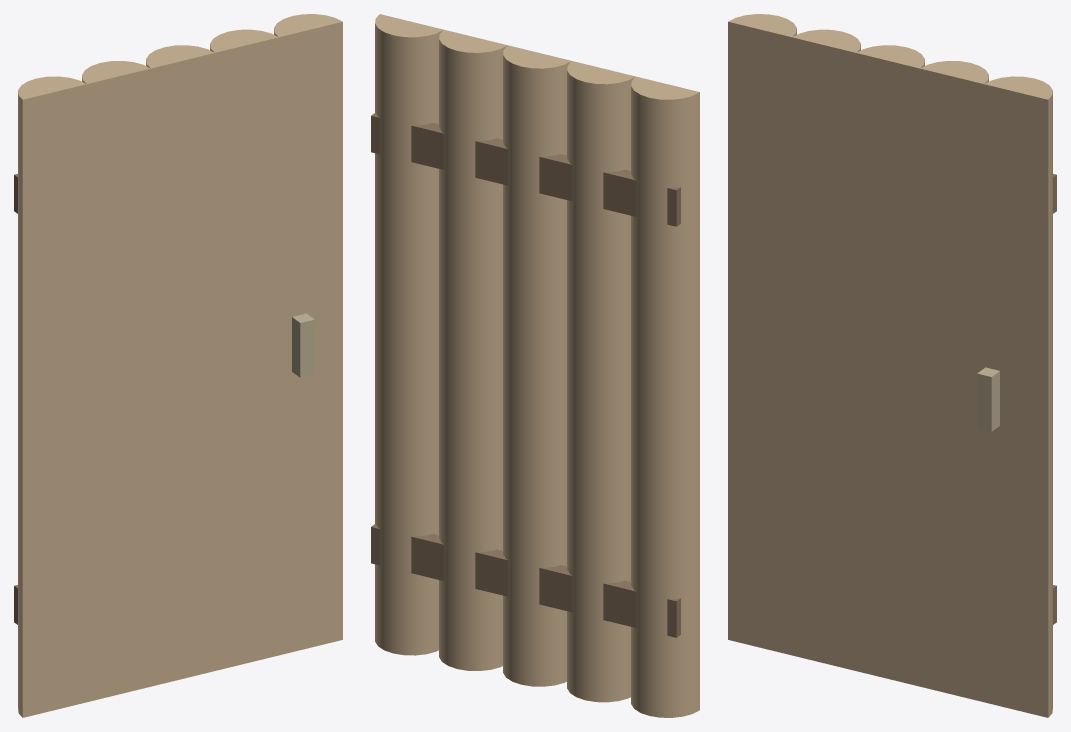
The model's file is log_door.glb.
3 renders of one model, left to right at view 1: azimuth 30°, elevation 25°; view 2: azimuth 150°, elevation 25°; view 3: azimuth 330°, elevation 25°, orthographic.
Visible parts, largest first — view 1: DoorLeaf; view 2: DoorLeaf; view 3: DoorLeaf.
Part boxes in pixels (x1,y1,x2,y2): DoorLeaf: [14, 14, 342, 717]; DoorLeaf: [371, 14, 699, 717]; DoorLeaf: [728, 14, 1056, 717].
Bounding box in the file's own units: 1.1 × 2.03 × 0.195.
